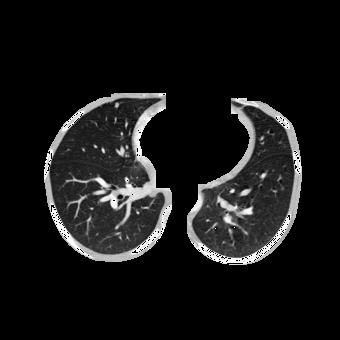PN: (114, 103, 118, 107)
